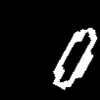chain: (53, 28, 96, 89)
